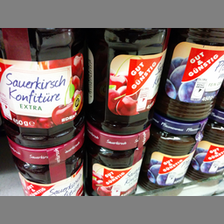jam: (1, 29, 89, 148), (85, 29, 169, 134), (155, 28, 223, 121), (140, 113, 207, 192), (7, 132, 87, 196), (84, 124, 150, 196)
